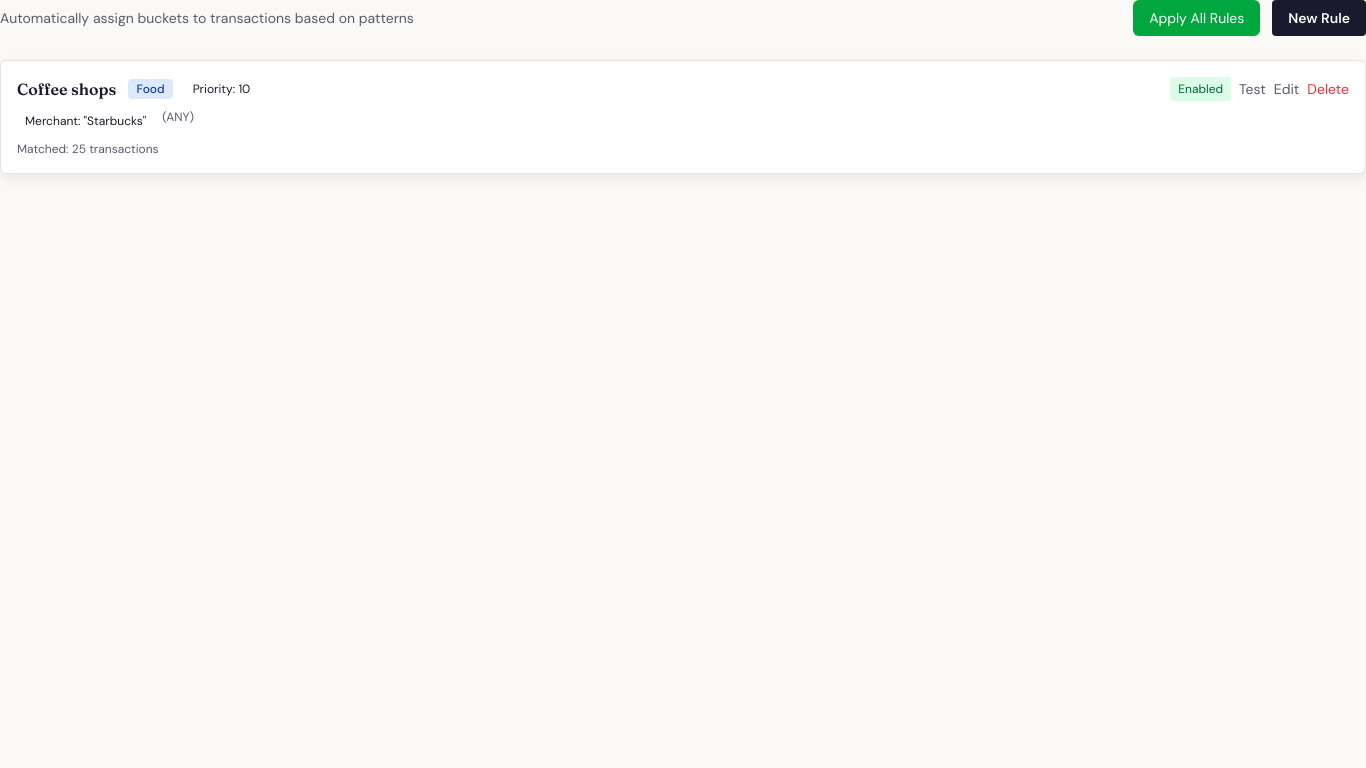
Test: RulesPanel › can close form with cancel
Click the button with test id "new-rule-btn" at (1319, 18), box [1272,0,1365,36]
(page scrolled)
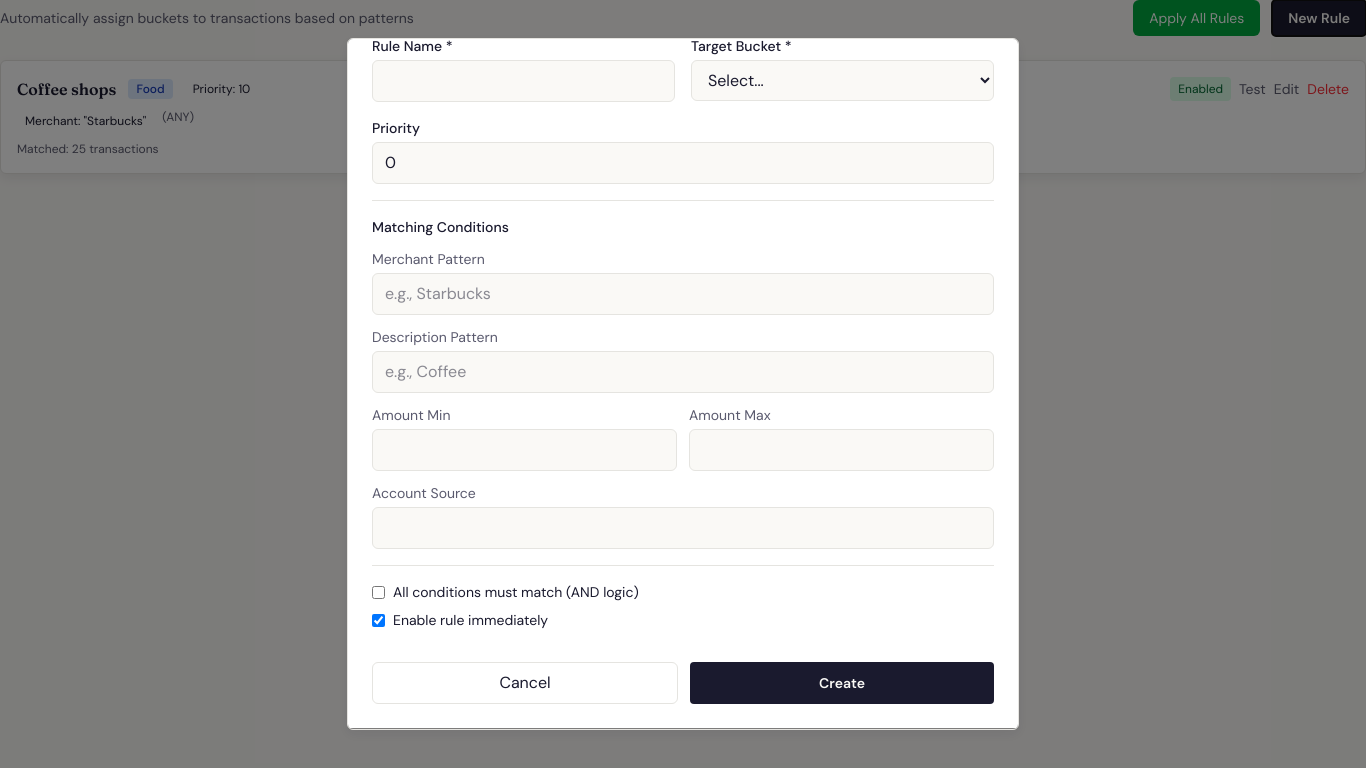
Expected: the button with test id "rule-cancel-btn" is shown
Click the button with test id "rule-cancel-btn" at (525, 683), box [372,662,678,704]
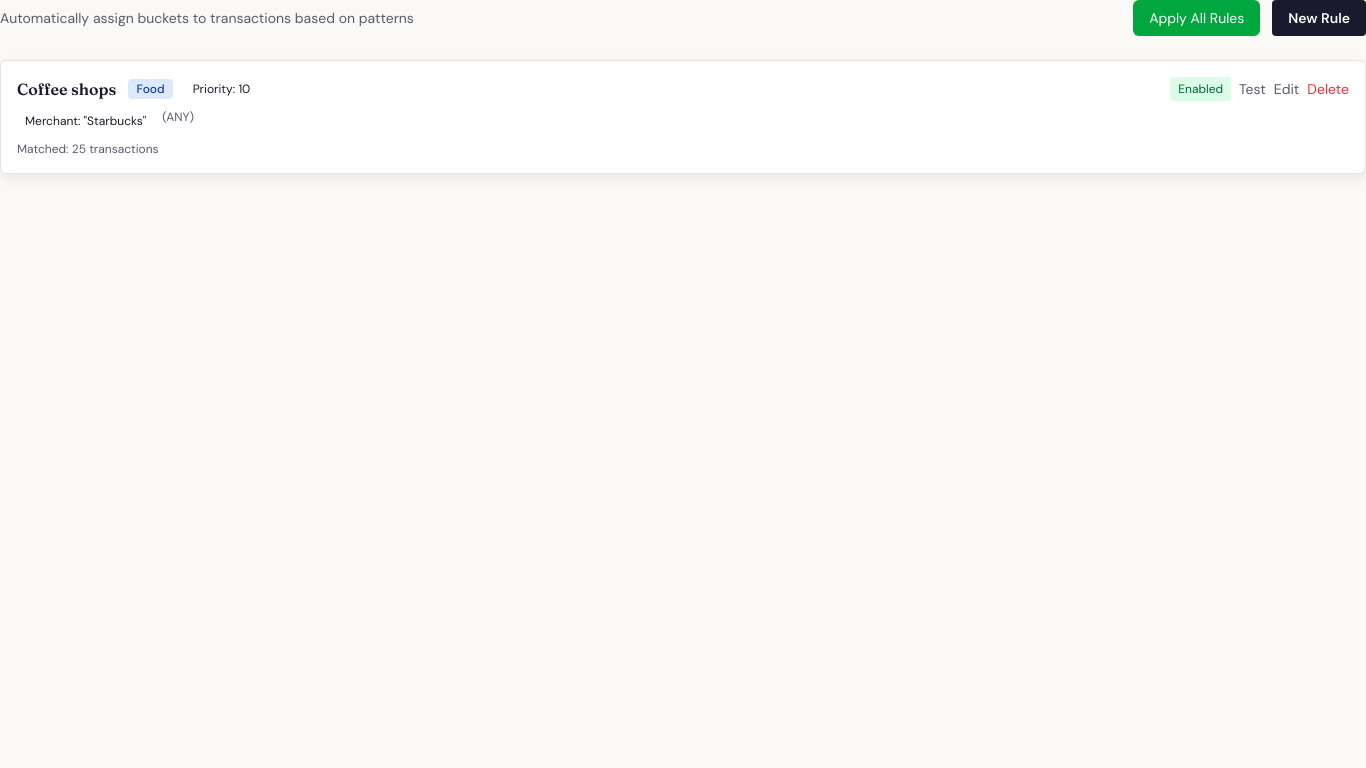
Expected: the element with test id "rule-form-modal" is gone
